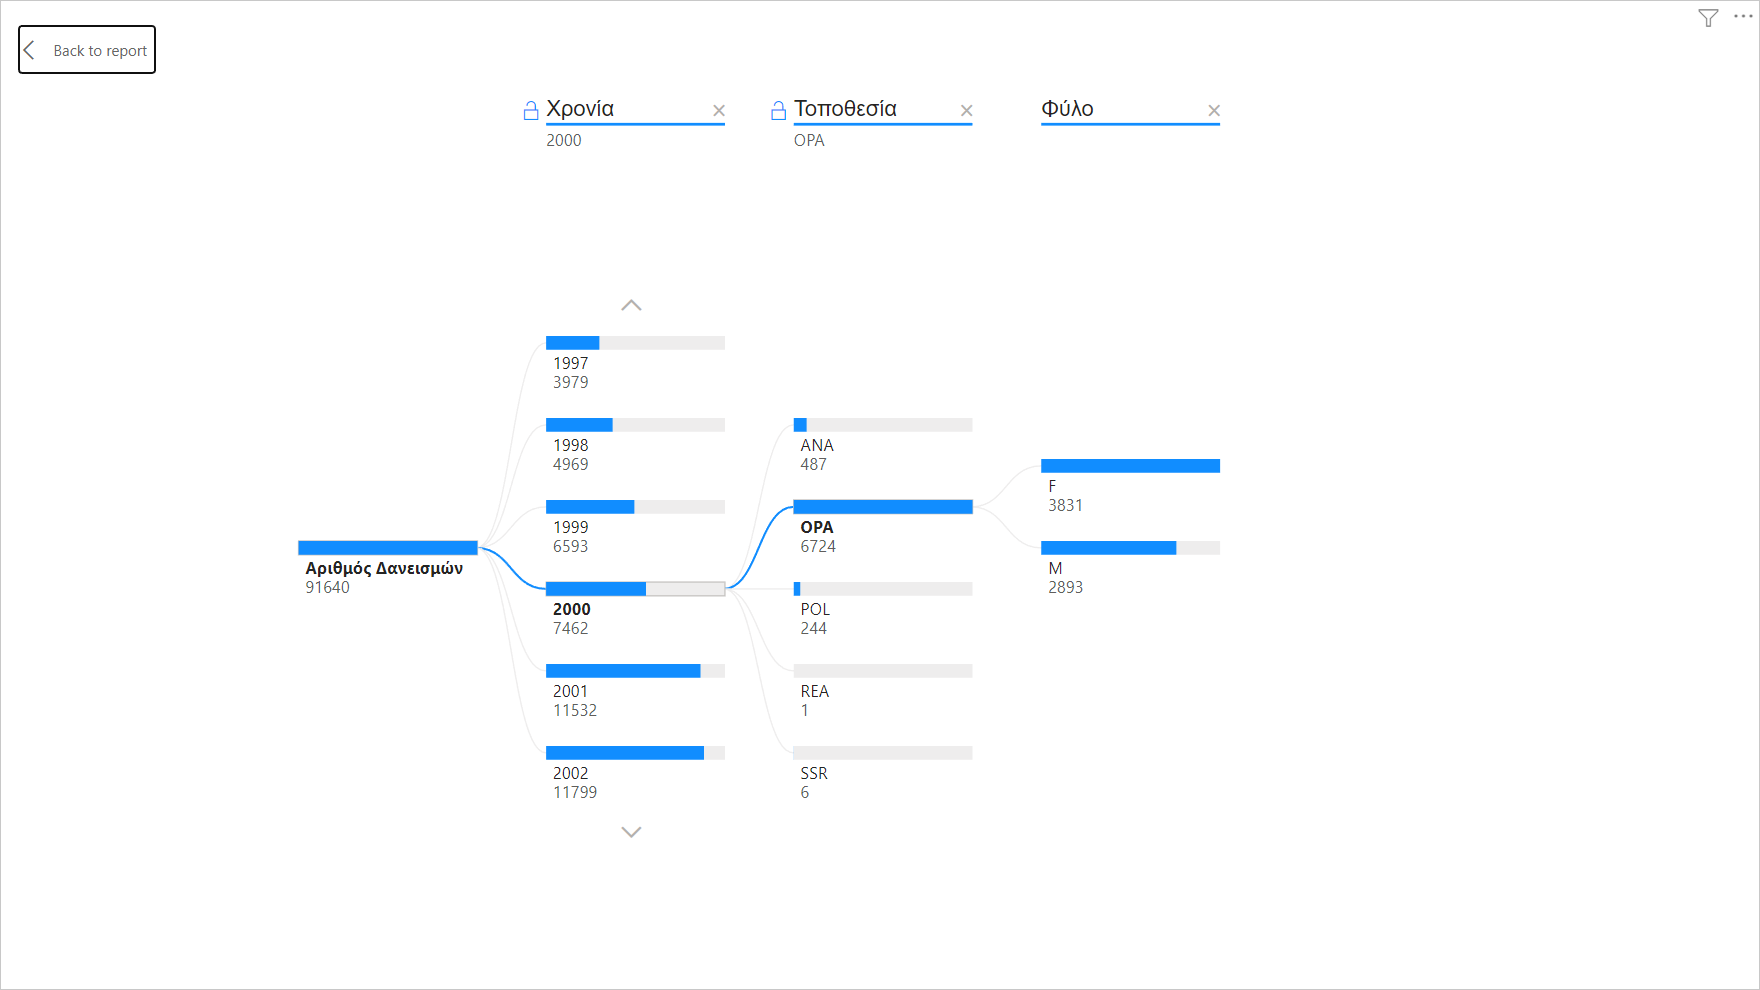

What the dashboard file says about the page in this screenshot:
{"tool":"powerbi","page":{"name":"Q5","canvas":[1280,720],"ordinal":4},"visuals":[{"type":"decompositionTreeVisual","fields":{"ExplainBy":["Calender.lyear","CopyLocations.copyloc","Customers.sex"],"Analyze":["CountNonNull(LoanedBooks.lb_id)"]},"box":[230.9,112.7,818.2,494.5],"z":0},{"type":"actionButton","box":[0,0,100,40],"z":1000}]}

Visuals, with their boxes on the page's 1280x720 design canvas (x1, y1, x2, y2). These are canvas units, not pixel positions in the 1760x990 screenshot, which may show the page scaled, cropped or inside an application window:
decompositionTreeVisual - Calender.lyear x CopyLocations.copyloc: box(231, 113, 1049, 607)
actionButton: box(0, 0, 100, 40)
